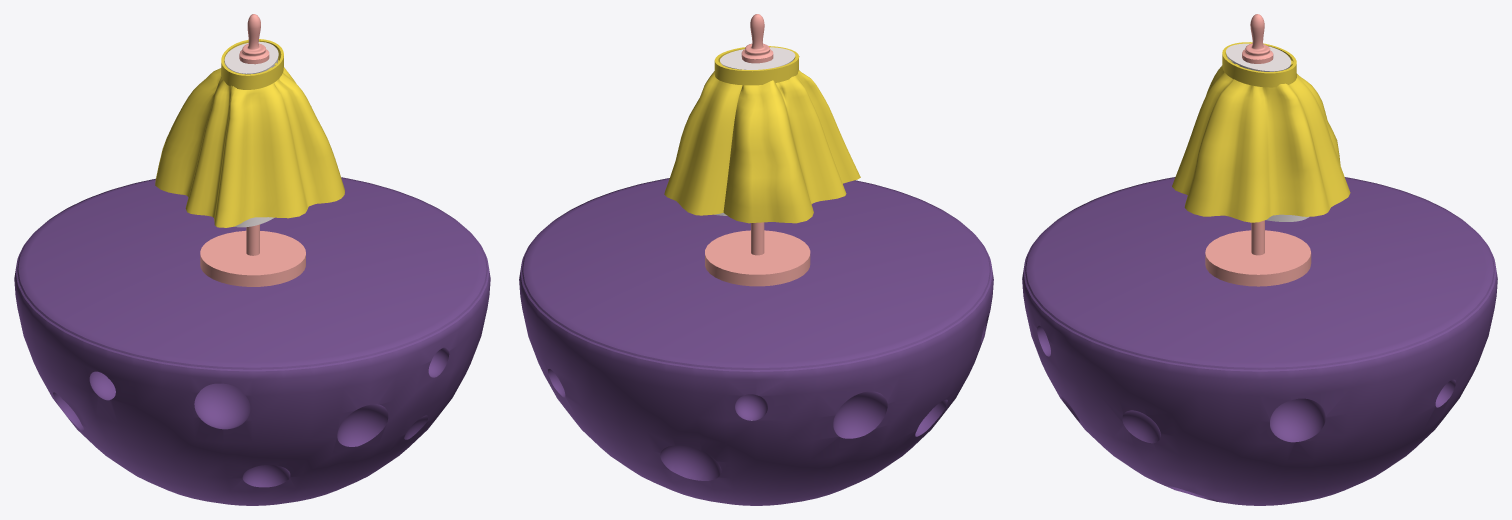
File: bubble_skirt_v1.gltf
The picture shows the model from 3 angles, left to right: view 1: azimuth 30°, elevation 25°; view 2: azimuth 150°, elevation 25°; view 3: azimuth 270°, elevation 25°; orthographic projection.
Parts seen in each view (by area): view 1: Sphere, skirt, Sphere.3 (×4), Cylinder.1, Tube, buste, haut; view 2: Sphere, skirt, Cylinder.1, Sphere.3 (×3), Tube, buste, haut; view 3: Sphere, skirt, Cylinder.1, Sphere.3 (×2), Tube, buste, haut.
Boxes of the visible parts, x1,y1,x2,y2 form: Sphere: (14, 177, 490, 505); skirt: (155, 58, 344, 227); Sphere.3 (×4): (89, 371, 388, 487); Cylinder.1: (200, 230, 305, 286); Tube: (221, 39, 283, 89); buste: (224, 41, 278, 227); haut: (239, 14, 269, 64); Sphere: (519, 178, 993, 505); skirt: (664, 61, 860, 223); Cylinder.1: (705, 230, 810, 286); Sphere.3 (×3): (660, 391, 887, 480); Tube: (714, 46, 799, 85); buste: (714, 47, 814, 215); haut: (741, 14, 773, 63); Sphere: (1022, 177, 1497, 505); skirt: (1172, 59, 1350, 222); Cylinder.1: (1205, 230, 1311, 286); Sphere.3 (×2): (1122, 398, 1325, 443); Tube: (1222, 42, 1296, 87); buste: (1226, 43, 1309, 221); haut: (1242, 14, 1273, 63).
Bounding box in the file's own units: 202 × 220 × 202.
